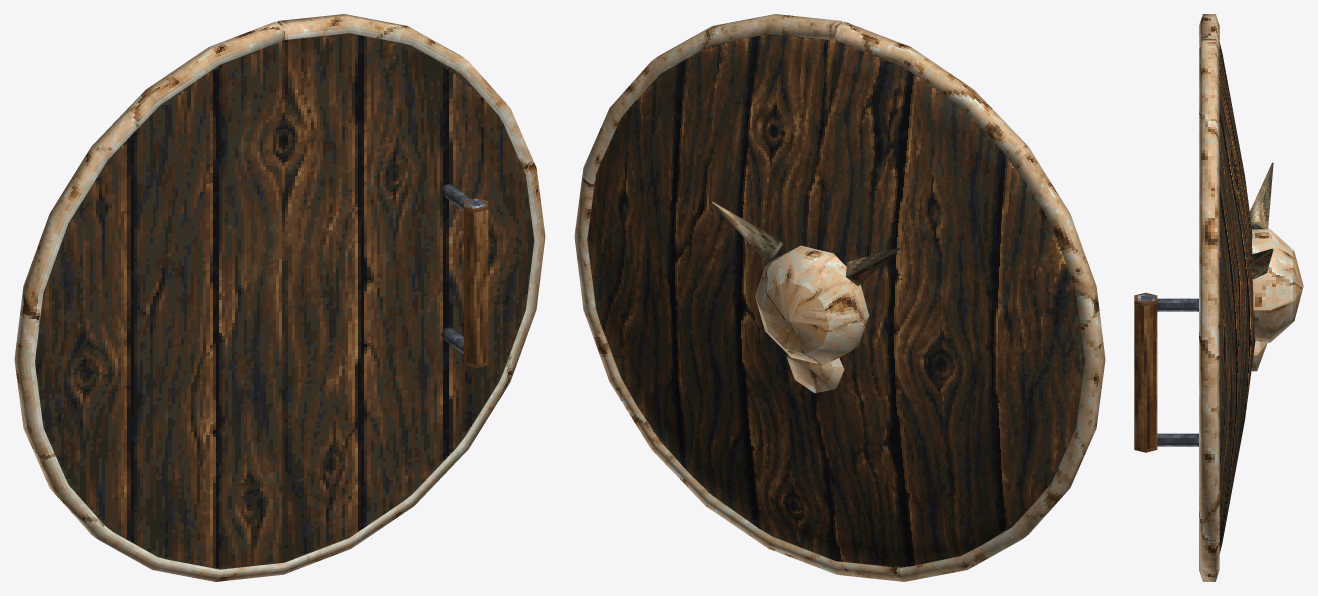
The model's file is skull_boss.glb.
3 views of the same model, side by side, from view 1: azimuth 30°, elevation 25°; view 2: azimuth 150°, elevation 25°; view 3: azimuth 270°, elevation 25° (orthographic). The views are drawn at different scales.
Visible parts, largest first — view 1: skull_boss; view 2: skull_boss; view 3: skull_boss.
Part boxes in pixels (x1,y1,x2,y2): skull_boss: (14, 14, 545, 581); skull_boss: (574, 14, 1105, 581); skull_boss: (1134, 14, 1303, 581).
Size of the model in its own units: 0.5202 by 0.5201 by 0.1544.
Materials: 1 (1 with a texture image).
